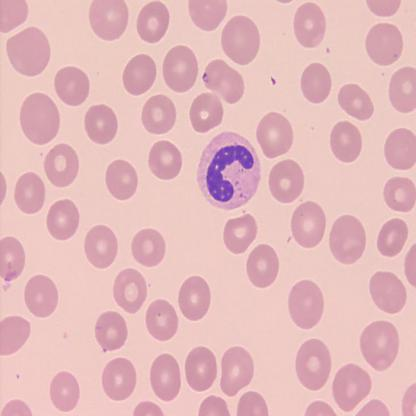Band Neutrophil: (194, 129, 262, 214)
